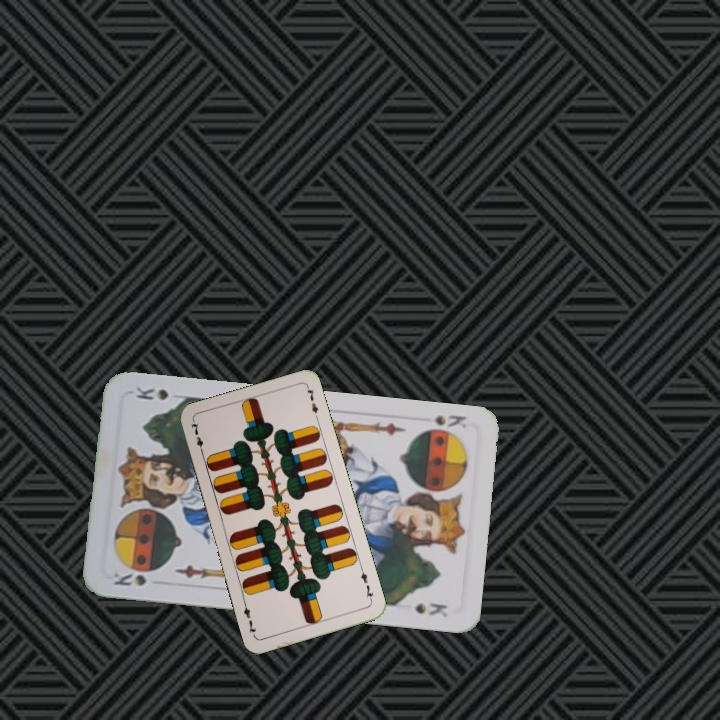E7: (356, 564, 376, 604), (187, 418, 206, 457)
SK: (417, 411, 469, 438), (107, 567, 149, 589)
